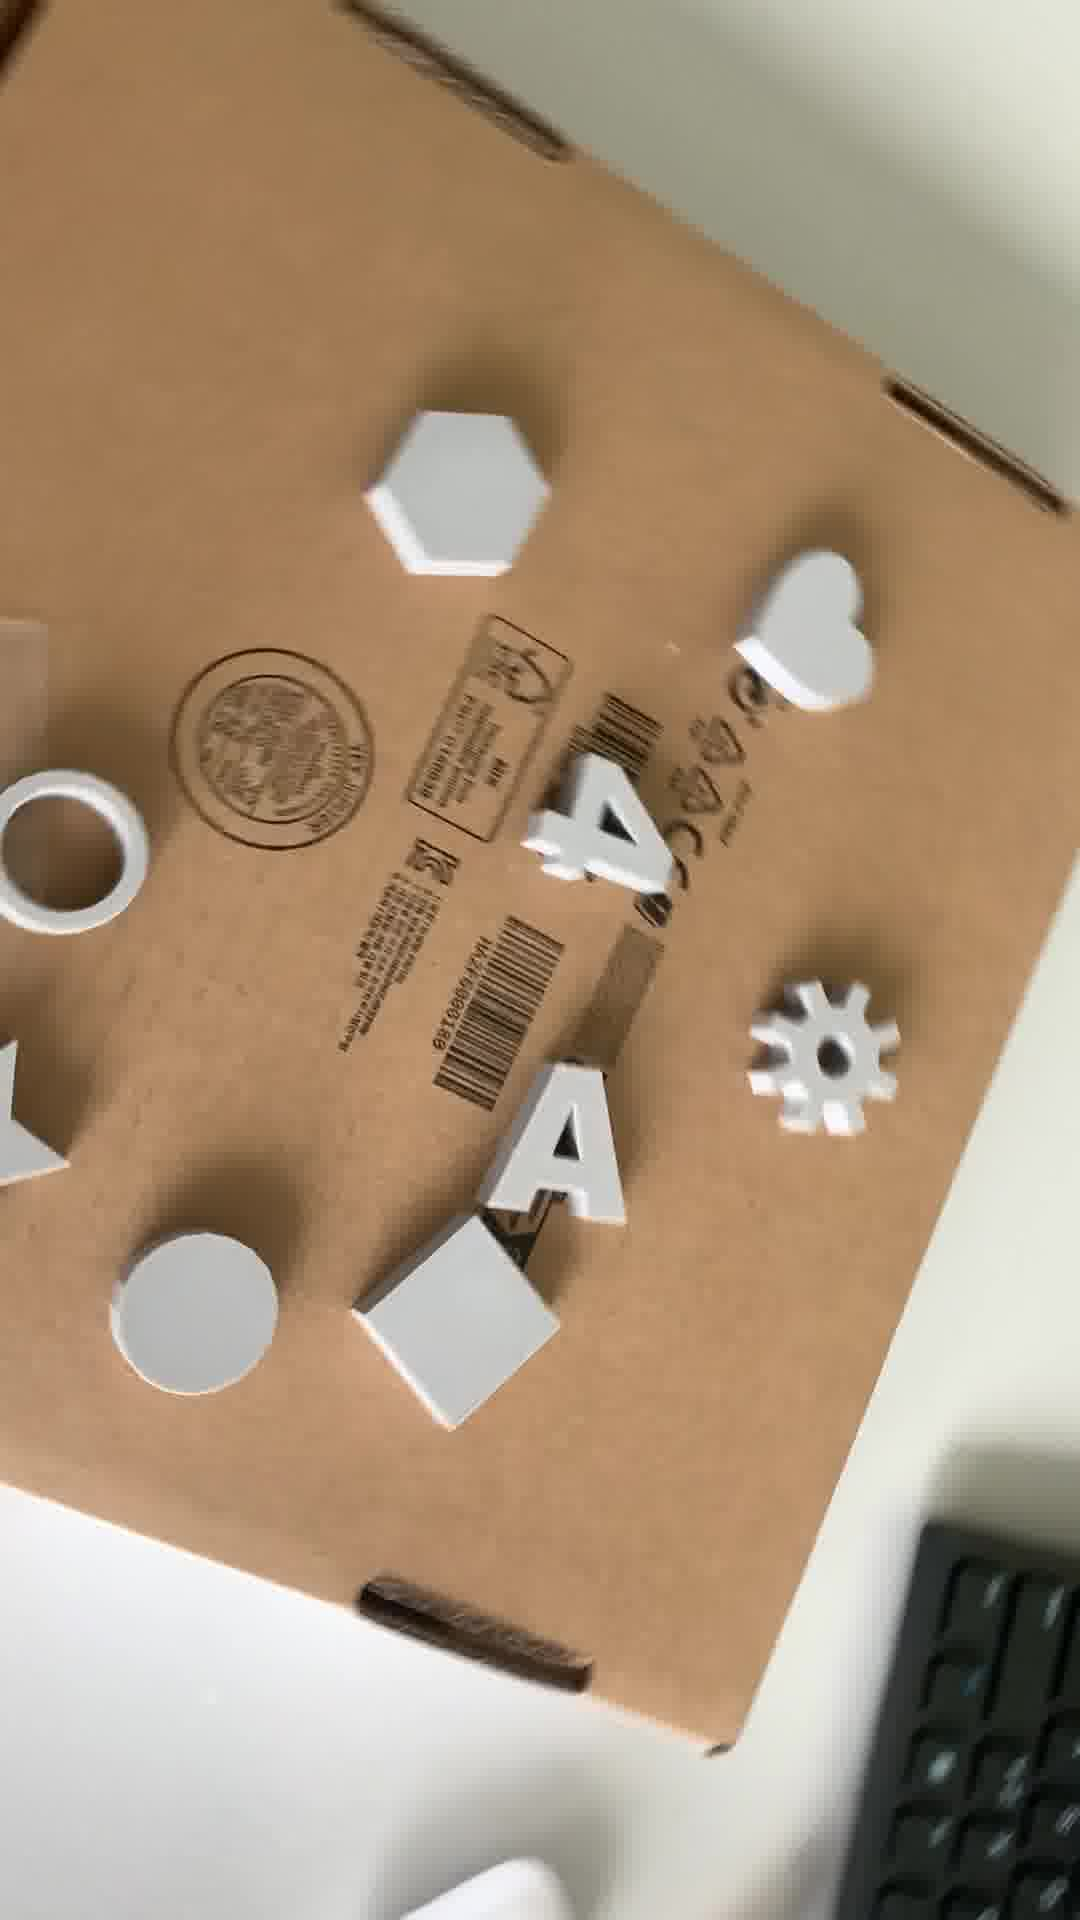Gray A-letter: (487, 1069, 633, 1224)
Gray circle: (100, 1232, 301, 1412)
Gray four: (520, 760, 688, 897)
Gray gear: (746, 973, 906, 1134)
Gray heart: (731, 546, 882, 720)
Gray hexagon: (347, 411, 555, 583)
Gray ring: (1, 765, 160, 936)
Gray square: (347, 1220, 549, 1436)
Gray star: (1, 1040, 71, 1224)
